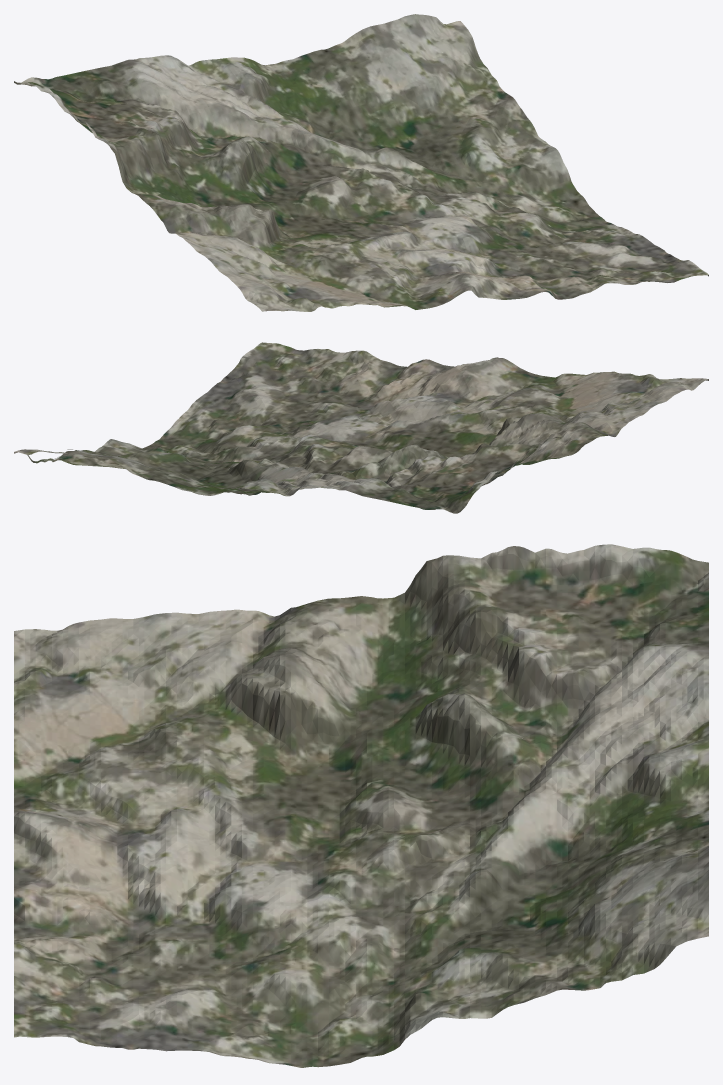
3 views of the same model, one above another, from view 1: azimuth 30°, elevation 25°; view 2: azimuth 150°, elevation 25°; view 3: azimuth 270°, elevation 25° (orthographic). The views are drawn at different scales.
Bounding box in the file's own units: 250 × 84.55 × 241.
Materials: 1 (1 with a texture image).
